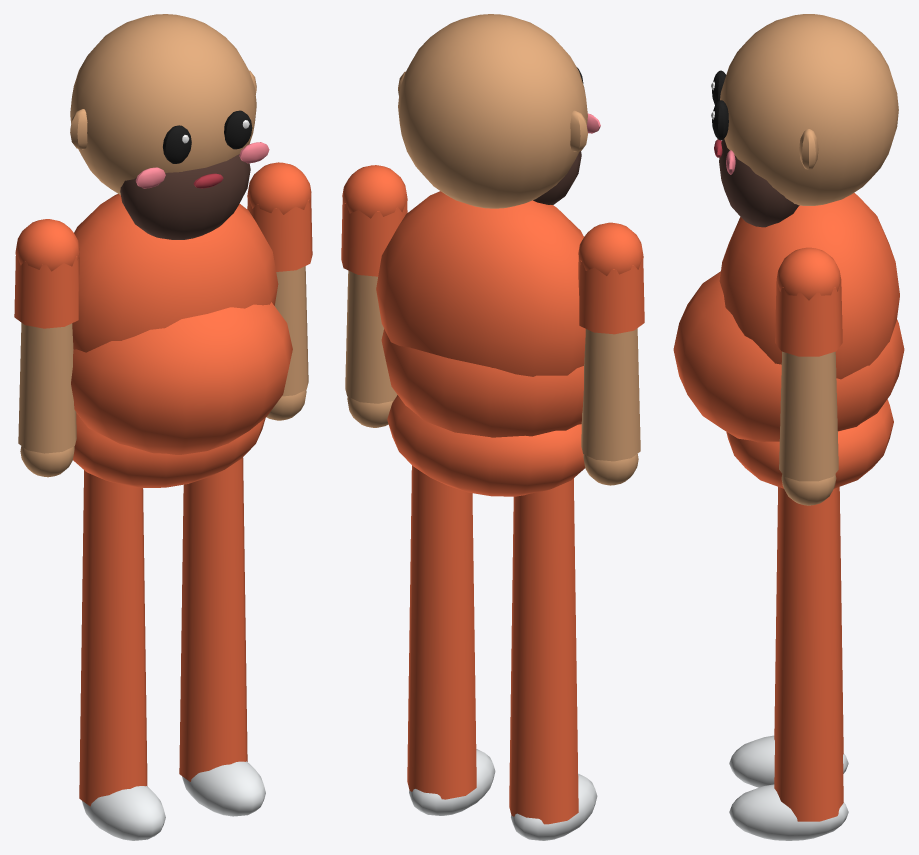
The model's file is law_cellmate.glb.
3 renders of one model, left to right at view 1: azimuth 30°, elevation 25°; view 2: azimuth 150°, elevation 25°; view 3: azimuth 270°, elevation 25°, orthographic.
Parts seen in each view (by area): view 1: Body.004, Leg_R.003, Leg_L.003, Arm_R.003, Arm_L.003; view 2: Body.004, Leg_R.003, Leg_L.003, Arm_R.003, Arm_L.003; view 3: Body.004, Leg_L.003, Arm_L.003, Leg_R.003.
Boxes of the visible parts, x1,y1,x2,y2 form: Body.004: (70,14,292,488); Leg_R.003: (79,470,165,840); Leg_L.003: (179,457,265,816); Arm_R.003: (14,219,79,477); Arm_L.003: (247,162,312,420); Body.004: (376,14,600,496); Leg_R.003: (509,478,597,840); Leg_L.003: (407,465,495,815); Arm_R.003: (578,222,644,485); Arm_L.003: (341,165,407,427); Body.004: (673,14,904,488); Leg_L.003: (729,487,848,840); Arm_L.003: (775,247,842,505); Leg_R.003: (729,487,848,787).
Bounding box in the file's own units: 0.6668 × 1.75 × 0.4636.
